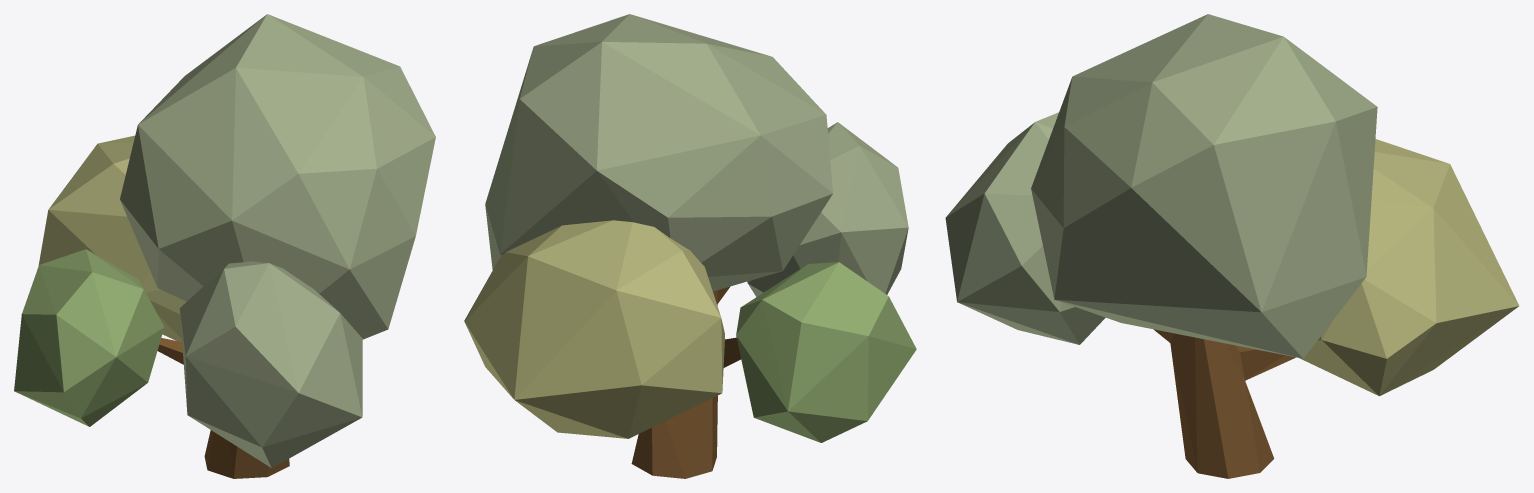
The model's file is bush2_felix.fbx.
3 views of the same model, side by side, from view 1: azimuth 30°, elevation 25°; view 2: azimuth 150°, elevation 25°; view 3: azimuth 270°, elevation 25° (orthographic). The views are drawn at different scales.
Parts seen in each view (by area): view 1: Icosphere.020, Icosphere.019, Icosphere.018, Icosphere.017, Cylinder.004; view 2: Icosphere.020, Icosphere.017, Icosphere.018, Icosphere.019, Cylinder.004; view 3: Icosphere.020, Icosphere.017, Icosphere.019, Cylinder.004.
Part boxes in pixels (x1,y1,x2,y2): Icosphere.020: (120,14,435,339); Icosphere.019: (179,261,362,467); Icosphere.018: (14,249,164,426); Icosphere.017: (38,135,186,341); Cylinder.004: (157,338,289,478); Icosphere.020: (485,14,833,291); Icosphere.017: (464,220,724,438); Icosphere.018: (736,262,916,442); Icosphere.019: (747,122,908,296); Cylinder.004: (631,286,740,478); Icosphere.020: (1031,14,1377,358); Icosphere.017: (1299,139,1519,396); Icosphere.019: (945,112,1105,344); Cylinder.004: (1153,329,1295,478).
Size of the model in its own units: 2.46 by 2.57 by 2.99.
